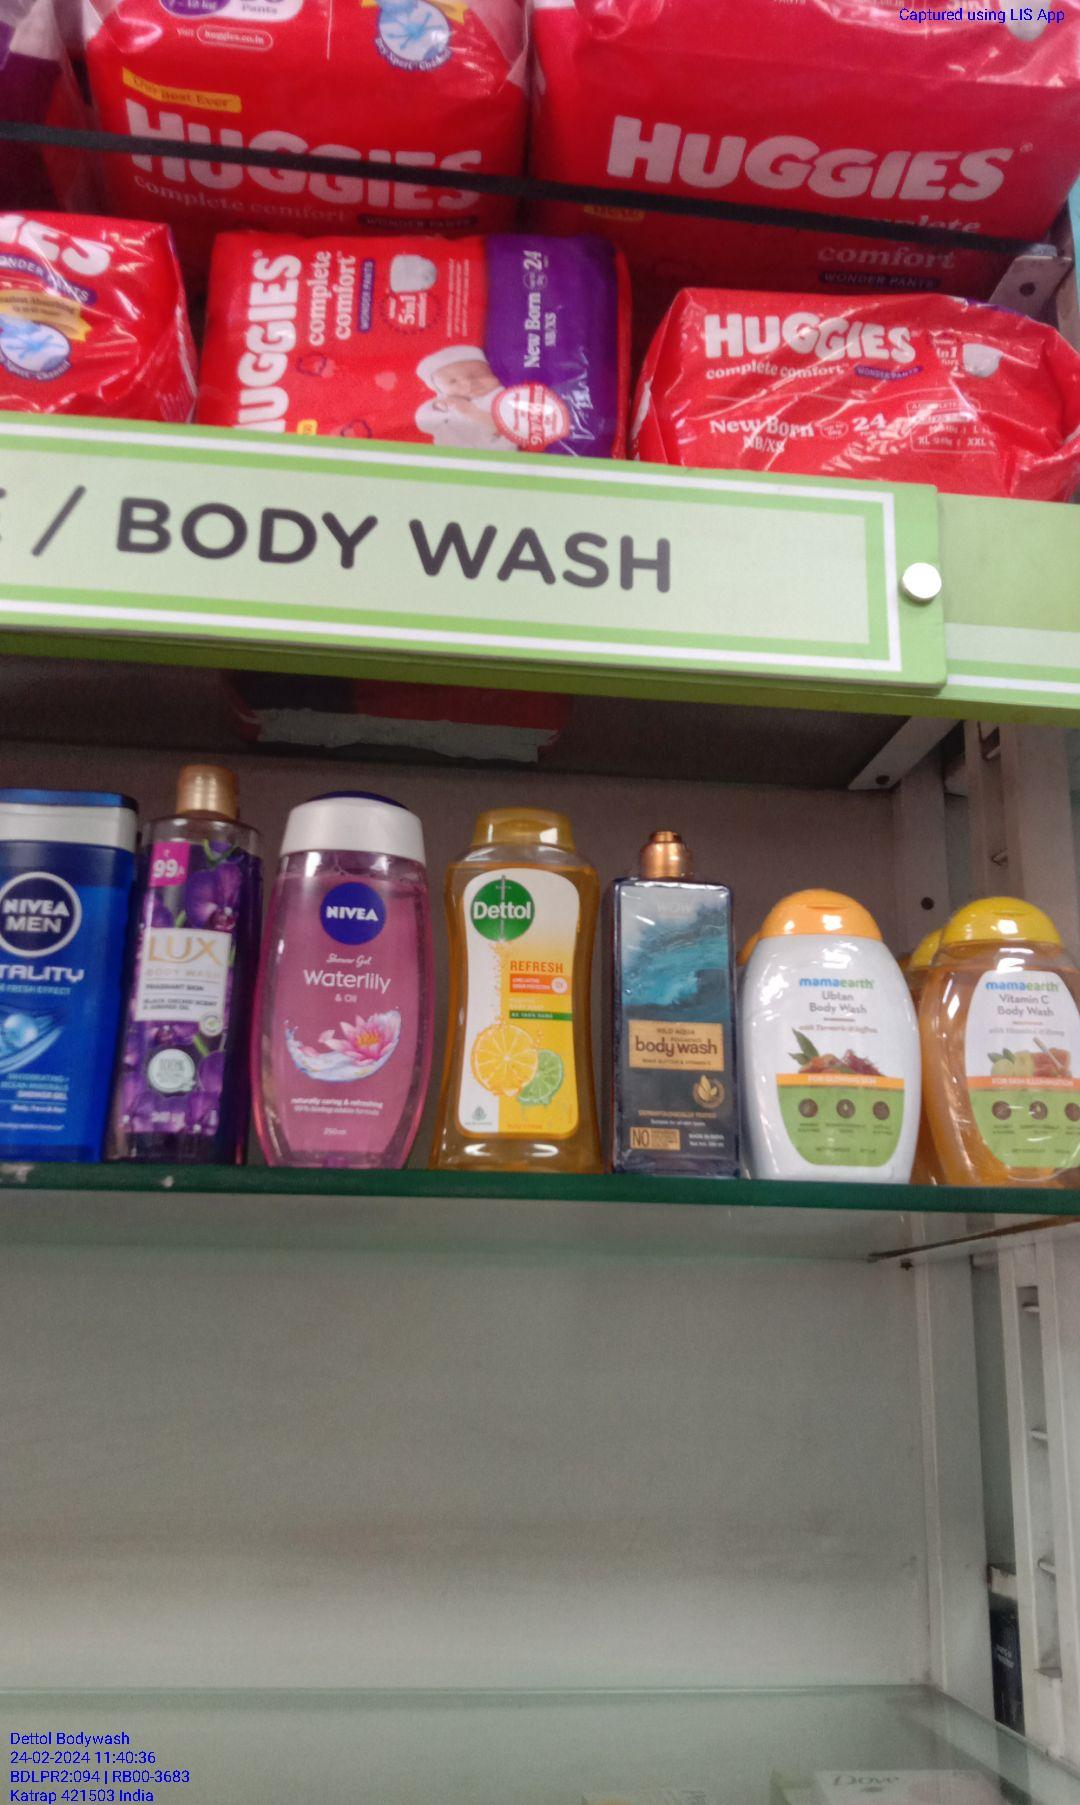Dettol_Bodywash_Refresh: (432, 810, 600, 1170)
Lux_Black_Orchid_Scent_and_Juniper_Oil_Body_Wash_245ML: (117, 750, 260, 1170)
Nivea_Shower_Gel_Waterlily_and_Oil_250ML: (265, 797, 432, 1172)
